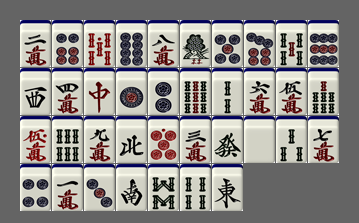0m: (20, 116, 51, 163)
0p: (148, 116, 179, 163)
0s: (84, 20, 115, 67)
1m: (52, 164, 83, 211)
1p: (116, 68, 147, 115)
1s: (180, 20, 211, 67)
1z: (212, 164, 243, 211)
2m: (20, 20, 51, 67)
2p: (148, 68, 179, 115)
2s: (212, 68, 243, 115)
2z: (116, 164, 147, 211)
3m: (180, 116, 211, 163)
3p: (84, 164, 115, 211)
3s: (276, 116, 307, 163)
3z: (20, 68, 51, 115)
4m: (52, 68, 83, 115)
4p: (20, 164, 51, 211)
4s: (180, 164, 211, 211)
4z: (116, 116, 147, 163)
5m: (276, 68, 307, 115)
5p: (212, 20, 243, 67)
5s: (276, 20, 307, 67)
5z: (244, 116, 275, 163)
6m: (244, 68, 275, 115)
6p: (52, 20, 83, 67)
6s: (52, 116, 83, 163)
6z: (212, 116, 243, 163)
7m: (308, 116, 339, 163)
7p: (244, 20, 275, 67)
7s: (308, 68, 339, 115)
7z: (84, 68, 115, 115)
8m: (148, 20, 179, 67)
8p: (116, 20, 147, 67)
8s: (148, 164, 179, 211)
9m: (84, 116, 115, 163)
9p: (308, 20, 339, 67)
9s: (180, 68, 211, 115)
